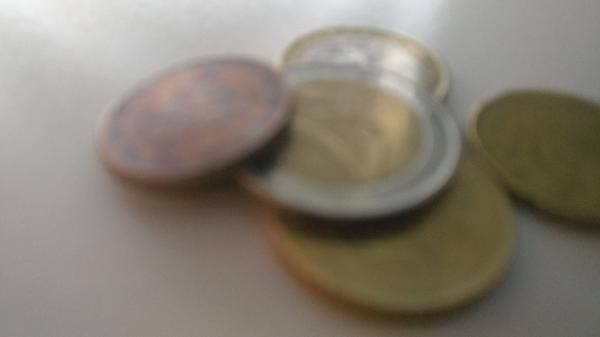Fifty Cent: (264, 141, 516, 315)
Five Cent: (97, 51, 309, 181)
One Euro: (279, 26, 447, 105)
Twenty Cent: (473, 80, 600, 220)
Two Euro: (222, 63, 465, 227)
